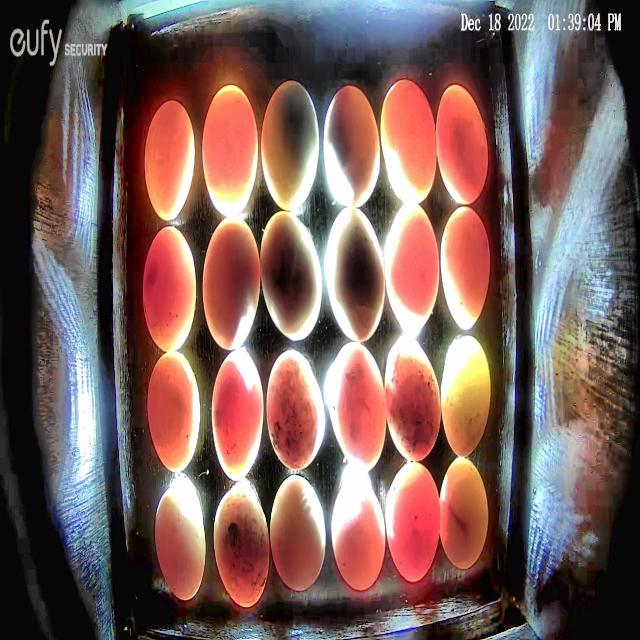DE: (260, 210, 322, 341), (326, 208, 385, 342), (260, 81, 320, 211), (329, 340, 387, 474), (202, 85, 259, 218), (203, 219, 260, 352), (213, 481, 271, 609), (323, 86, 381, 209), (384, 338, 441, 462), (212, 347, 264, 482), (381, 80, 437, 205), (266, 350, 325, 468), (384, 204, 438, 332), (142, 226, 195, 352), (147, 350, 201, 472), (386, 462, 440, 584), (270, 478, 326, 592), (154, 480, 206, 602), (440, 204, 490, 329), (440, 333, 490, 458), (145, 99, 195, 222), (437, 86, 488, 206), (332, 483, 385, 591), (440, 458, 489, 570)
